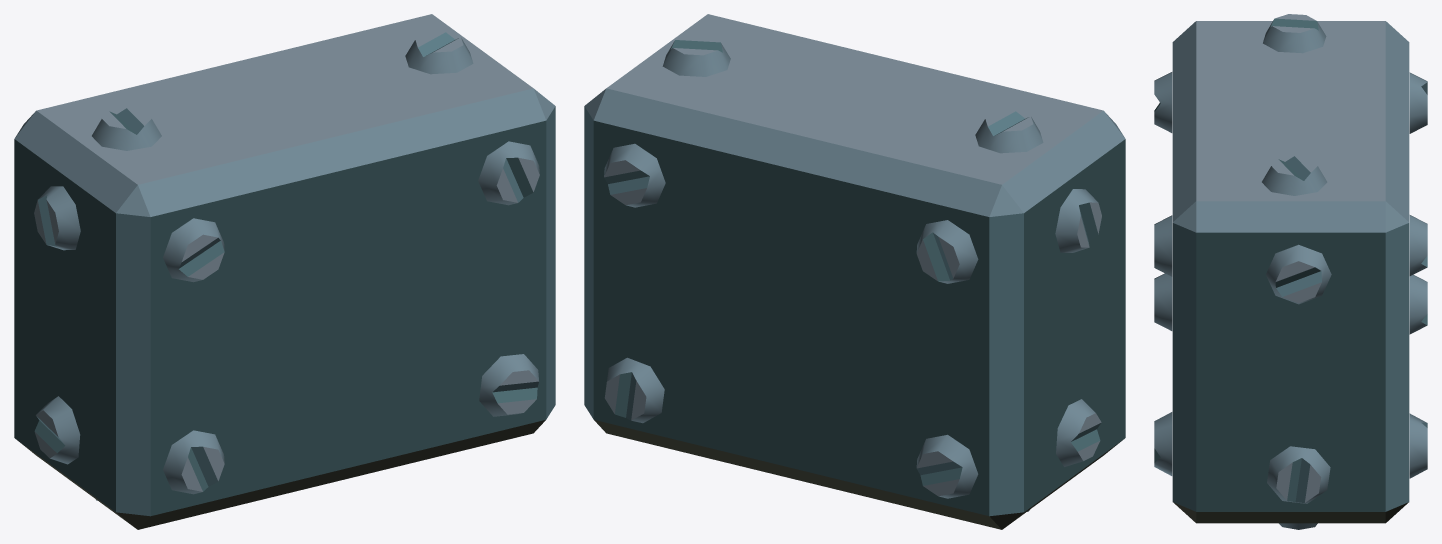
File: m_kub_metal_halfMid.FBX
3 renders of one model, left to right at view 1: azimuth 30°, elevation 25°; view 2: azimuth 150°, elevation 25°; view 3: azimuth 270°, elevation 25°, orthographic. The views are drawn at different scales.
Visible parts, largest first — view 1: m_kub_metal_halfMid; view 2: m_kub_metal_halfMid; view 3: m_kub_metal_halfMid.
Boxes of the visible parts, x1,y1,x2,y2 form: m_kub_metal_halfMid: (14,14,555,529); m_kub_metal_halfMid: (584,14,1125,529); m_kub_metal_halfMid: (1154,14,1427,529).
Size of the model in its own units: 2.15 by 1.65 by 1.15.
